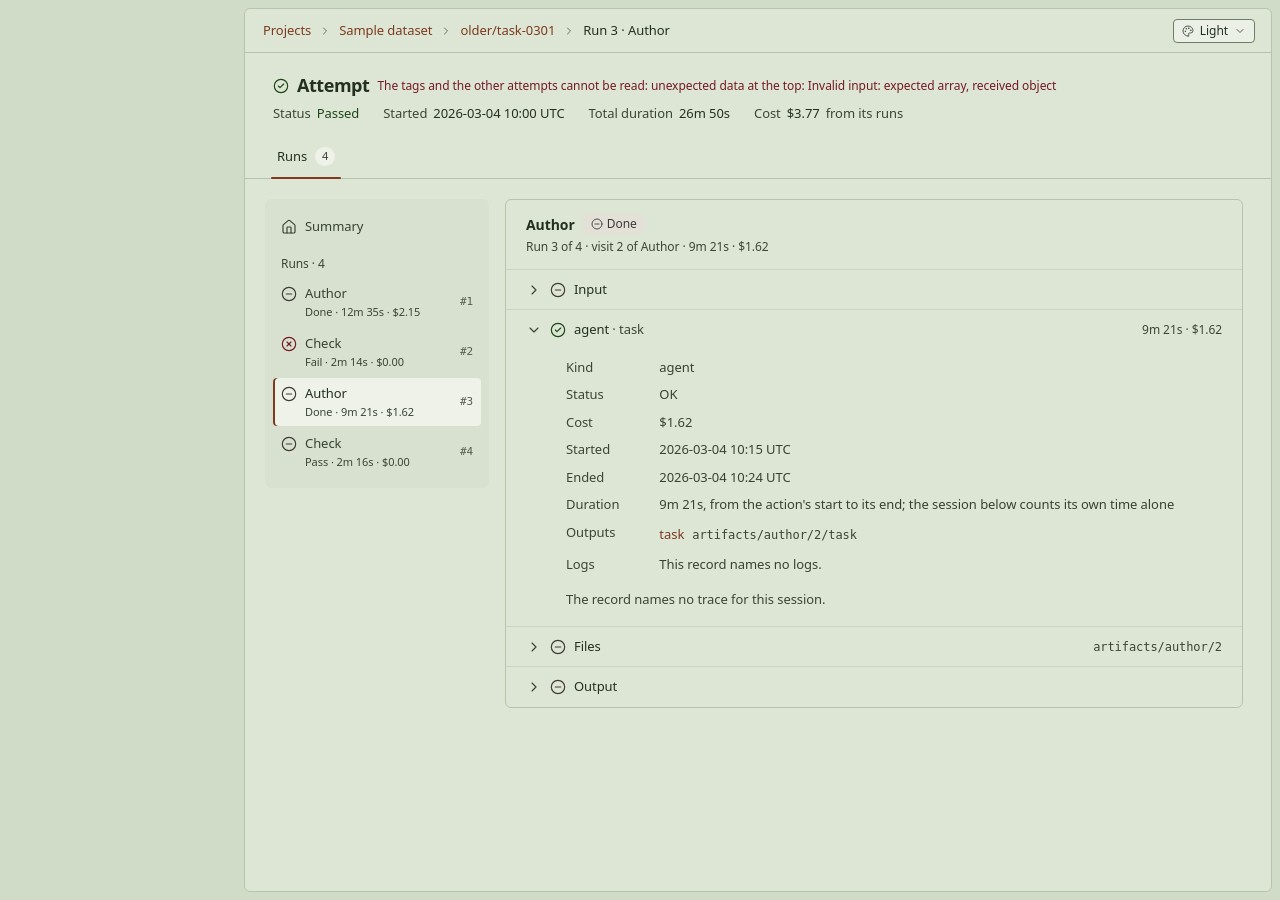
Test case: a record an older dataforge wrote › opens a run with no round in its heading
The width and height of the screenshot is (1280, 900).
Expected: the text "Run 3 of 4 · visit 2 of Author · 9m 21s · $1.62" is shown, [526,238,769,255]
What coordinates should you click on to do the following:
click the button "Input"
I would click on:
 (590, 289)
Its box is [506,270,1242,309].
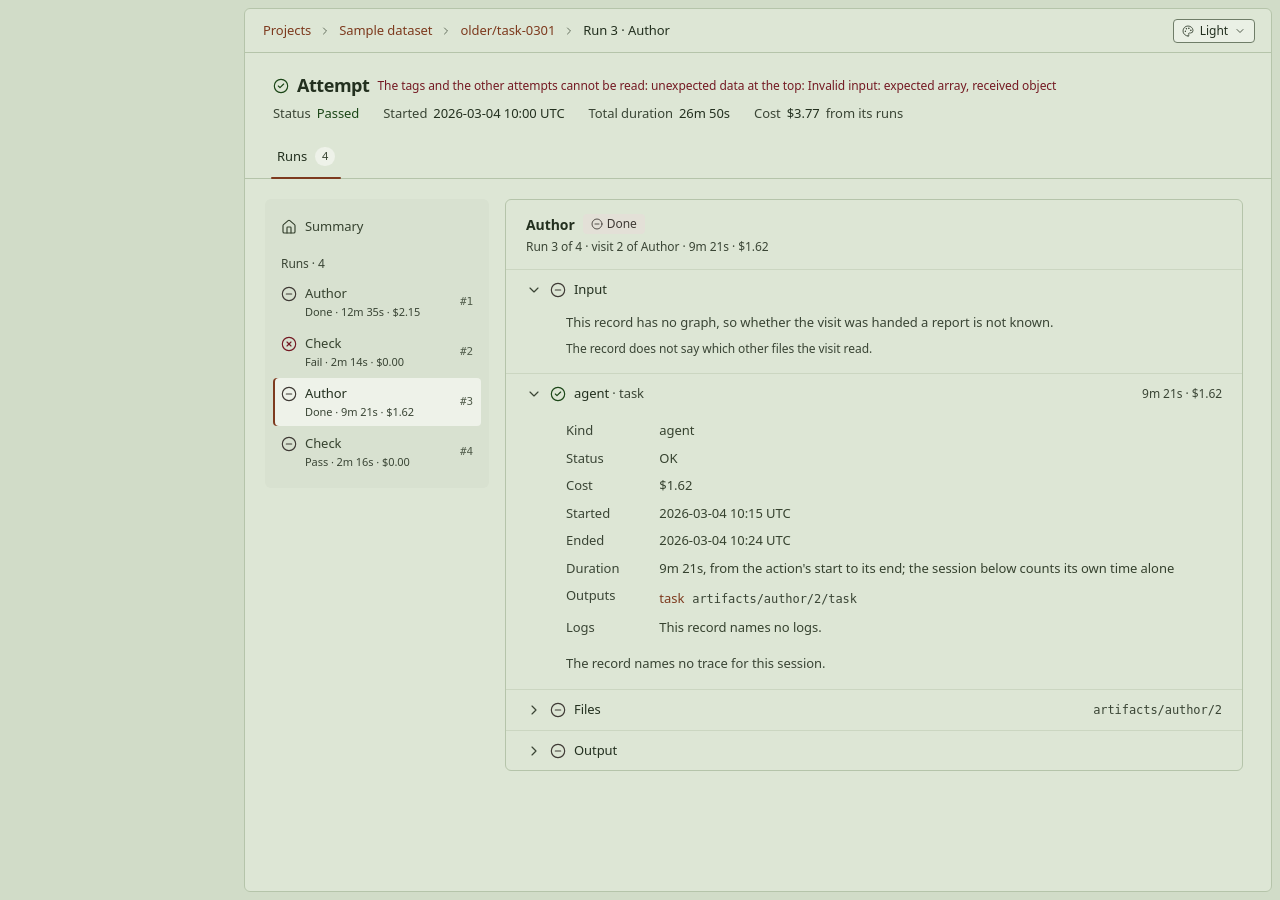
Result: the text "This record has no graph, so whether" is shown at [566,313,1053,331]
